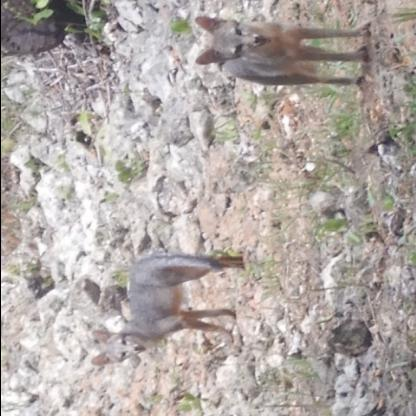zorro: (90, 250, 244, 364), (188, 12, 375, 94)
